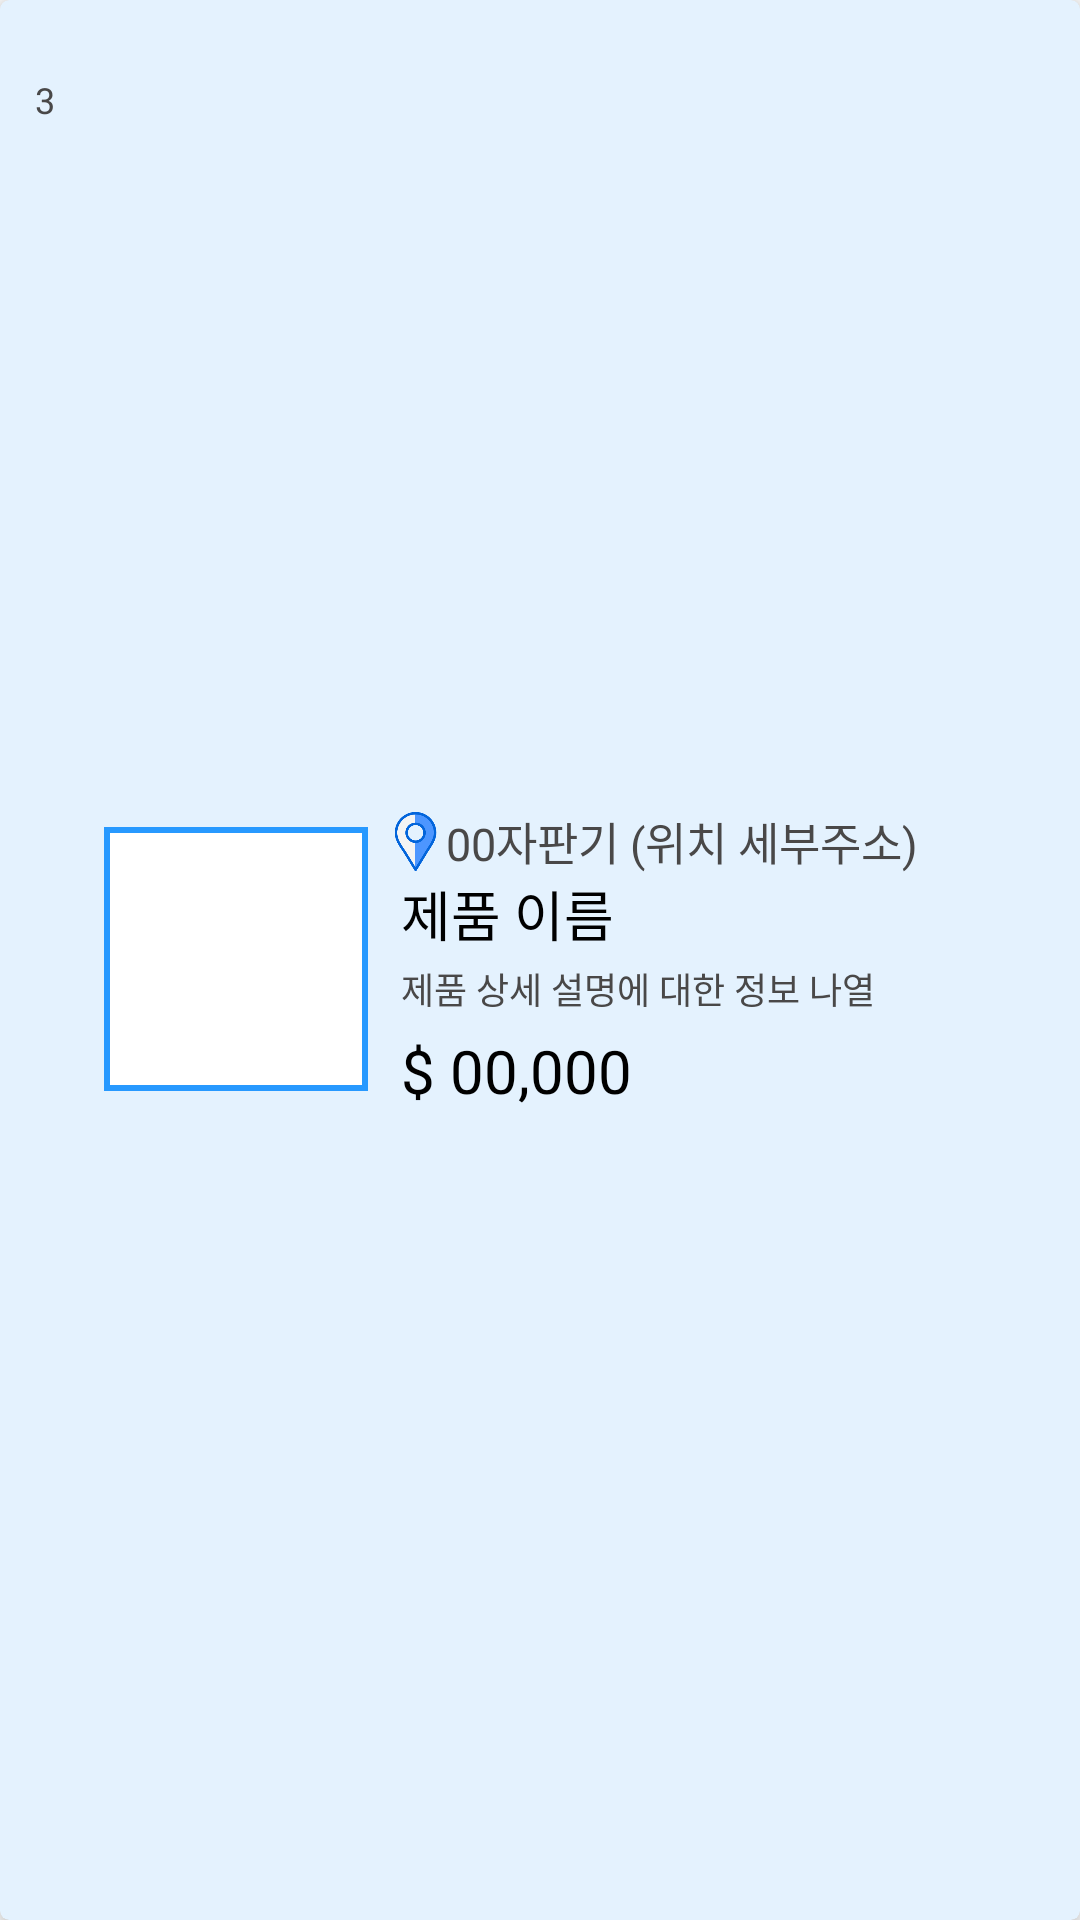

Named icons in this screenshot (1080 x 1920) and their bounding boxes, Rect(x1, y1, x2, y2):
place: Rect(395, 812, 437, 871)
